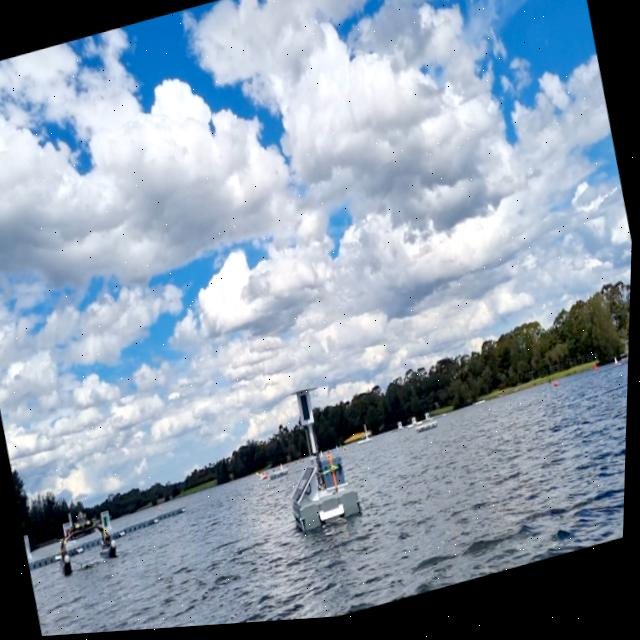led: (299, 395, 316, 430)
